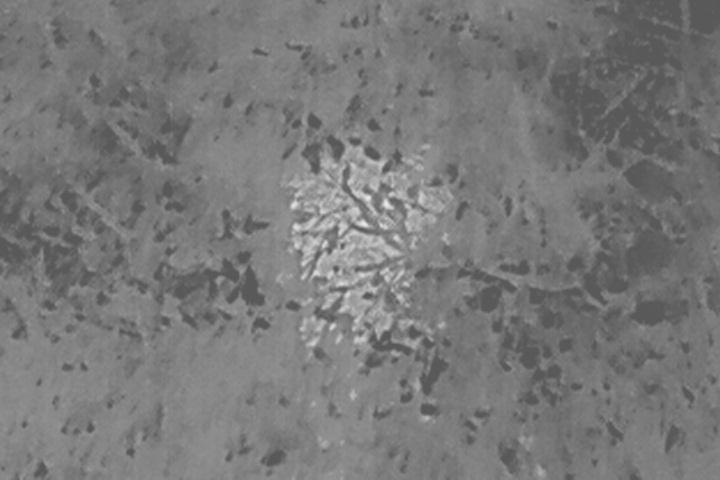landmine: (287, 111, 464, 351)
